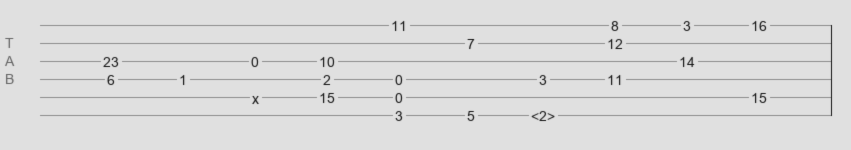0: (251, 54, 259, 64), (395, 72, 403, 82), (395, 90, 403, 100)
1: (179, 72, 187, 82)
10: (319, 54, 335, 64)
11: (391, 18, 407, 28), (607, 72, 623, 82)
12: (607, 36, 623, 46)
14: (679, 54, 695, 64)
15: (319, 90, 335, 100), (751, 90, 767, 100)
16: (751, 18, 767, 28)
2: (323, 72, 331, 82)
23: (103, 54, 119, 64)
3: (395, 108, 403, 118), (539, 72, 547, 82), (683, 18, 691, 28)
5: (467, 108, 475, 118)
6: (107, 72, 115, 82)
7: (467, 36, 475, 46)
8: (611, 18, 619, 28)
harmonic: (531, 108, 555, 118)
x: (252, 91, 259, 99)
